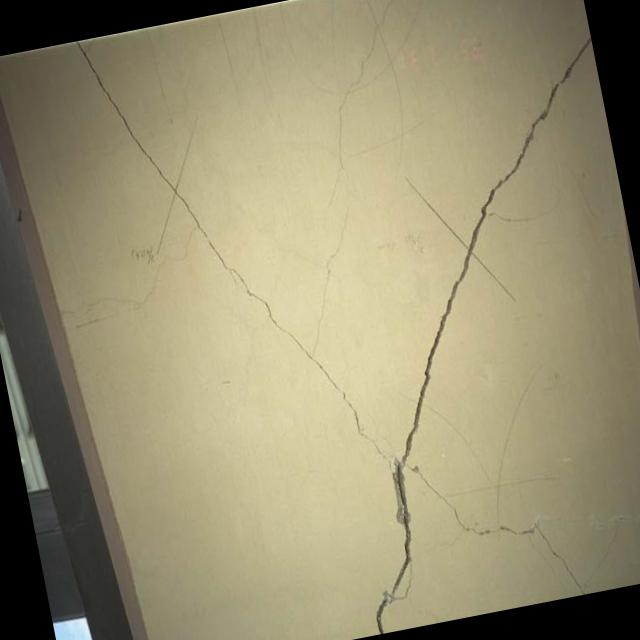crack: (375, 33, 590, 632)
